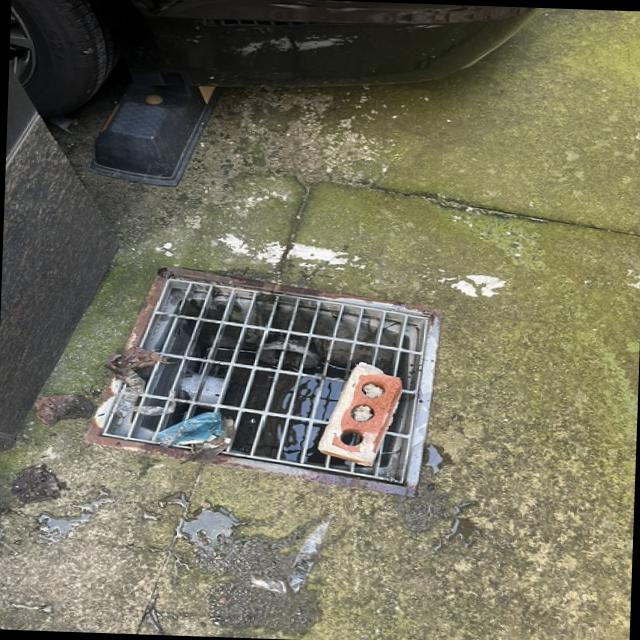drain_area: (104, 282, 425, 484)
drain_full: (102, 281, 430, 484)
